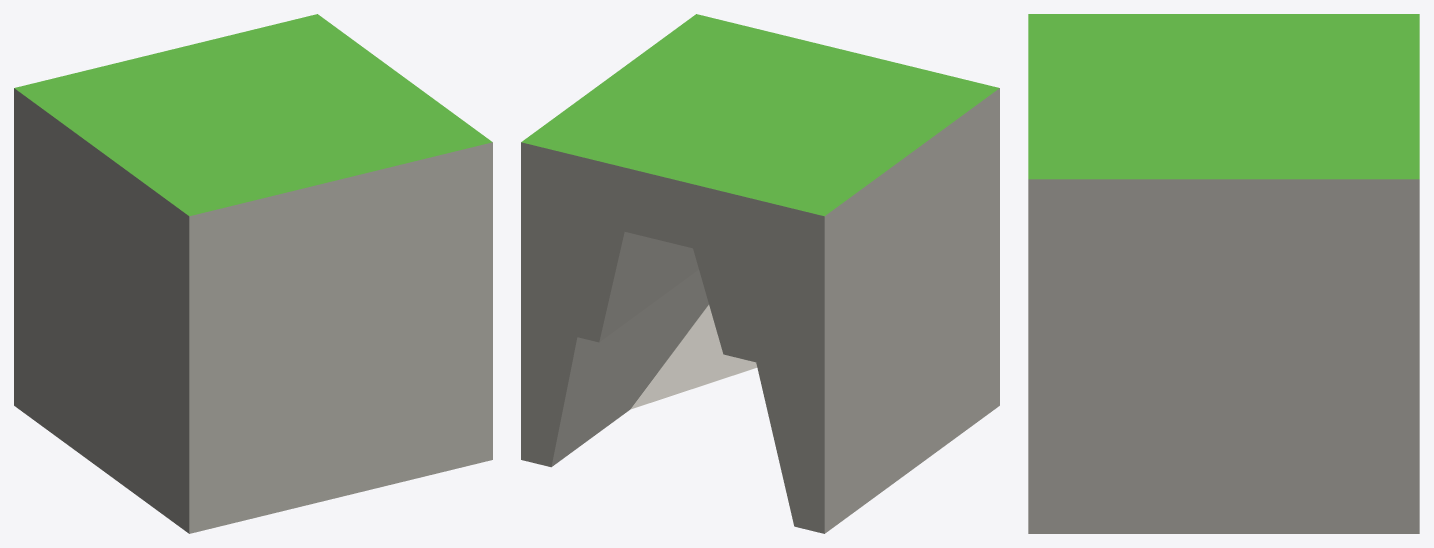
The model's file is cliff_blockCave_stone.glb.
3 views of the same model, side by side, from view 1: azimuth 30°, elevation 25°; view 2: azimuth 150°, elevation 25°; view 3: azimuth 270°, elevation 25° (orthographic). The views are drawn at different scales.
Visible parts, largest first — view 1: cliff_blockCave_stone; view 2: cliff_blockCave_stone; view 3: cliff_blockCave_stone.
Boxes of the visible parts, left/top/right/bottom form: cliff_blockCave_stone: left=14, top=14, right=492, bottom=533; cliff_blockCave_stone: left=521, top=14, right=999, bottom=533; cliff_blockCave_stone: left=1028, top=14, right=1419, bottom=533.
Bounding box in the file's own units: 1 × 1 × 1.
